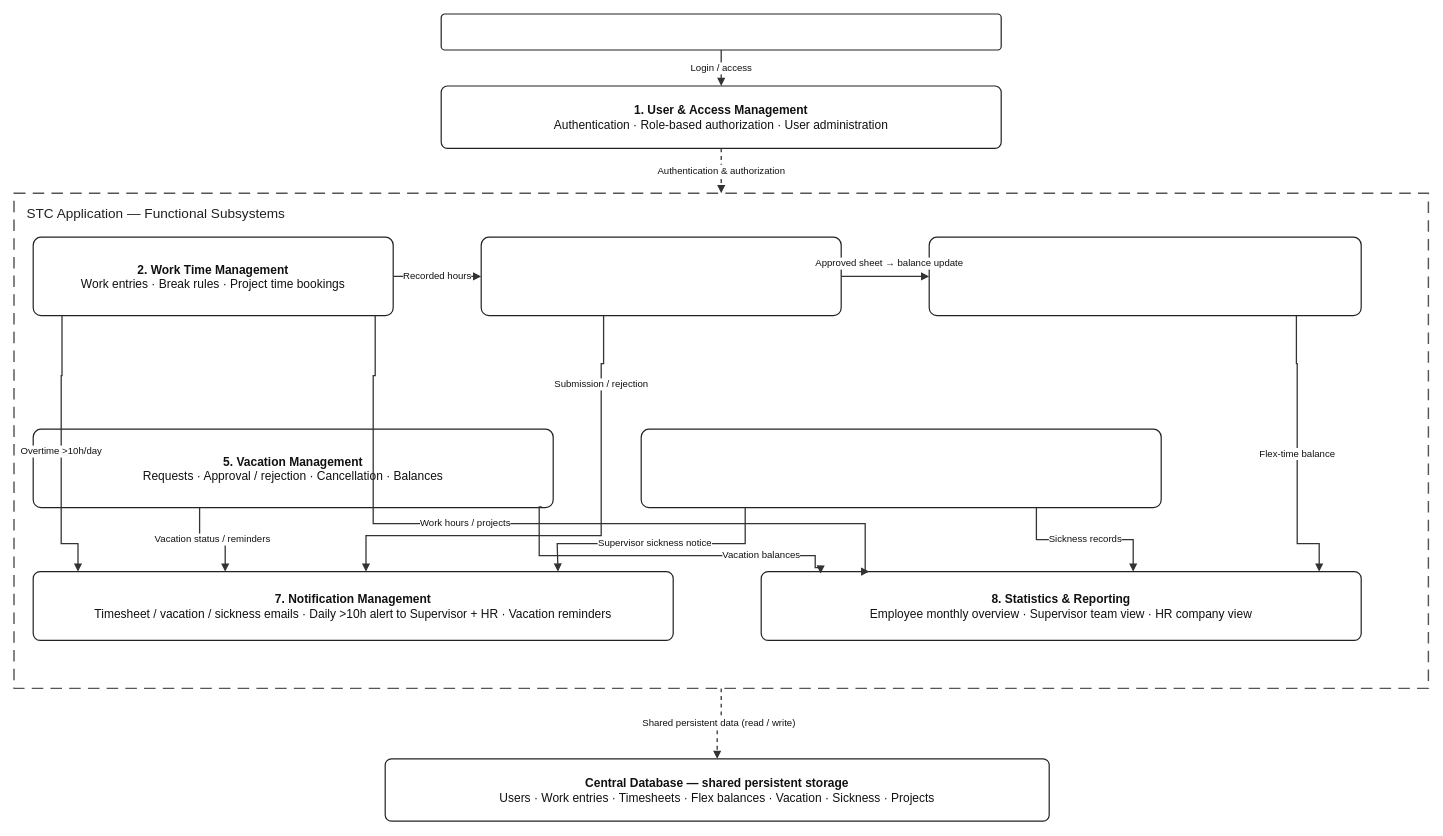
The diagram is 1443 pixels wide and 836 high, and some of its shapes have lost their labels. The box of each missing label's shape, as (x1, y1, x2, y2) in pixels:
3. Timesheet Management Monthly submission · Approval / rejection · Resubmission: (480, 236, 841, 316)
4. Flex-Time Management Flex leave · Approved-balance update · ±100h warning: (928, 236, 1361, 316)
6. Sickness Management HR records sickness · No approval required: (640, 428, 1161, 508)
Users: Employee · Supervisor · HR · Admin: (440, 13, 1001, 50)
